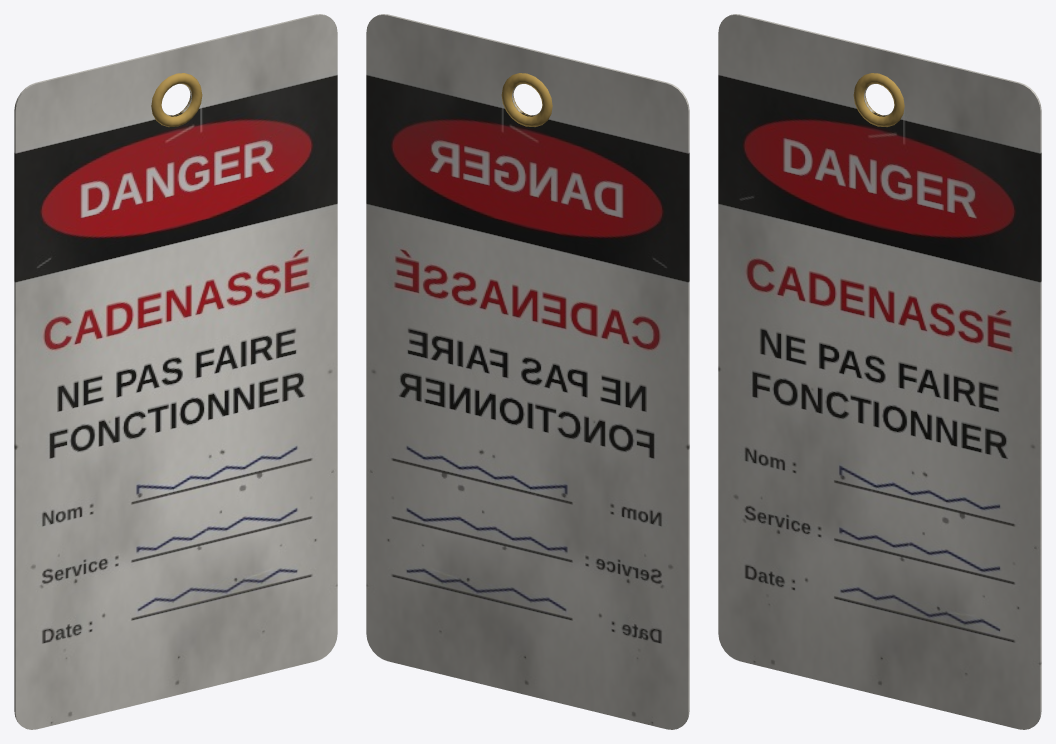
Rendered from SM_Etiquette_Cadenassage.glb.
The picture shows the model from 3 angles, left to right: view 1: azimuth 30°, elevation 25°; view 2: azimuth 150°, elevation 25°; view 3: azimuth 330°, elevation 25°; orthographic projection.
Parts seen in each view (by area): view 1: SM_Etiquette_Cadenassage; view 2: SM_Etiquette_Cadenassage; view 3: SM_Etiquette_Cadenassage.
Part boxes in pixels (left/top/right/bottom): SM_Etiquette_Cadenassage: left=14, top=14, right=337, bottom=729; SM_Etiquette_Cadenassage: left=366, top=14, right=689, bottom=729; SM_Etiquette_Cadenassage: left=718, top=14, right=1041, bottom=729.
Size of the model in its own units: 0.0762 by 0.1461 by 0.00254.
2 materials, 1 textured.
